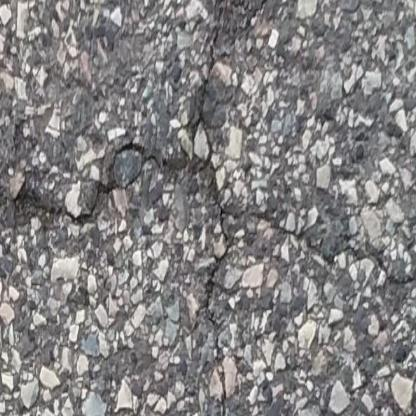Cracks: (0, 0, 242, 416), (259, 211, 416, 292)
